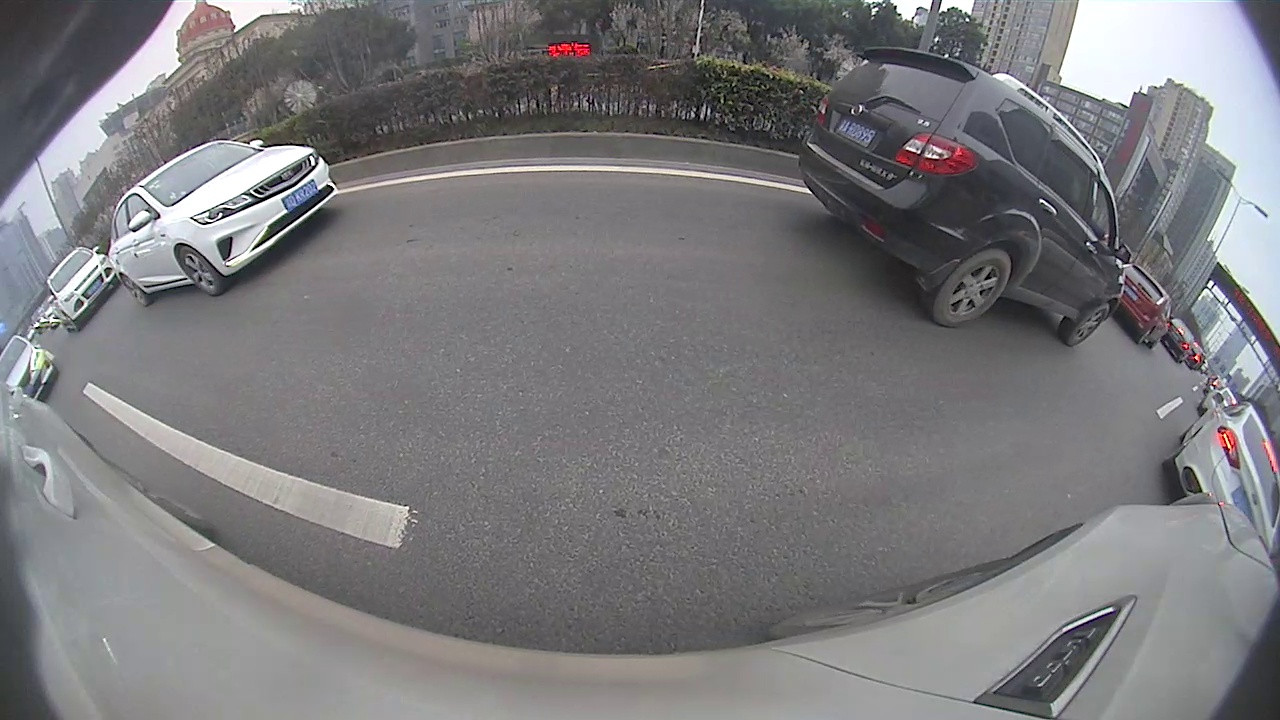car: (798, 46, 1132, 347), (106, 138, 340, 310), (1163, 401, 1277, 549), (43, 245, 125, 333), (1117, 262, 1171, 351), (2, 333, 59, 401)
front: (177, 245, 224, 297), (1062, 301, 1110, 348)
rear: (932, 246, 1011, 326), (123, 276, 153, 307), (1137, 325, 1153, 345)
